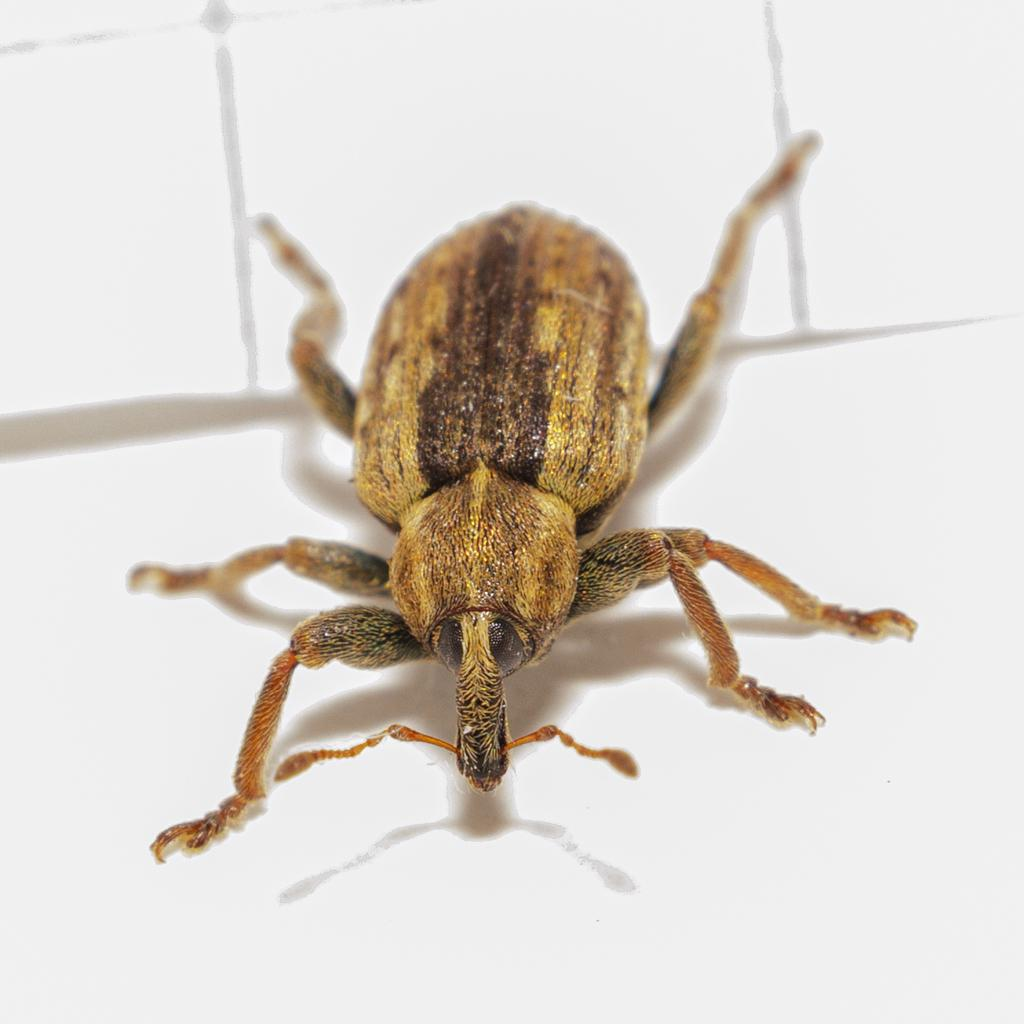weevils: (41, 71, 983, 956)
